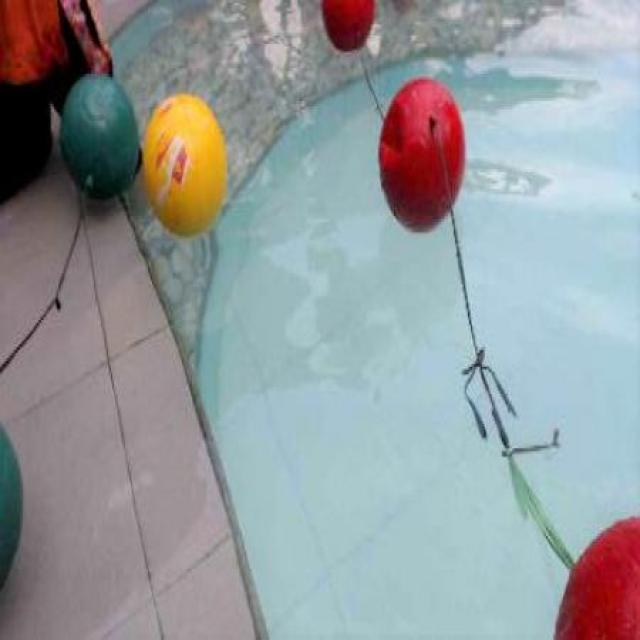buoy: (377, 73, 466, 233), (141, 92, 225, 237), (552, 513, 638, 636), (60, 70, 136, 197), (320, 0, 373, 50)
